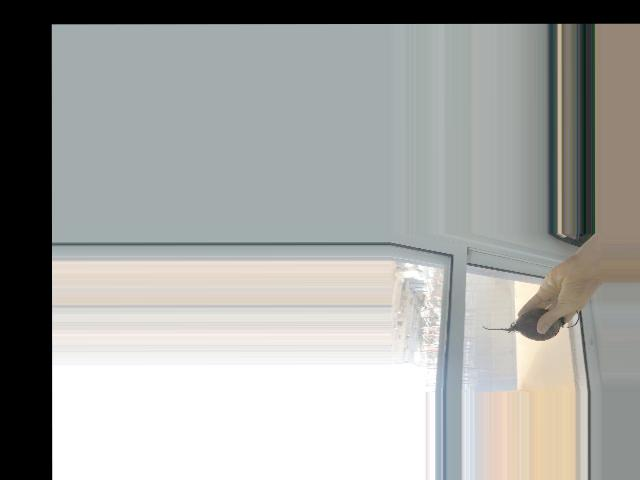beet: (481, 298, 578, 340)
